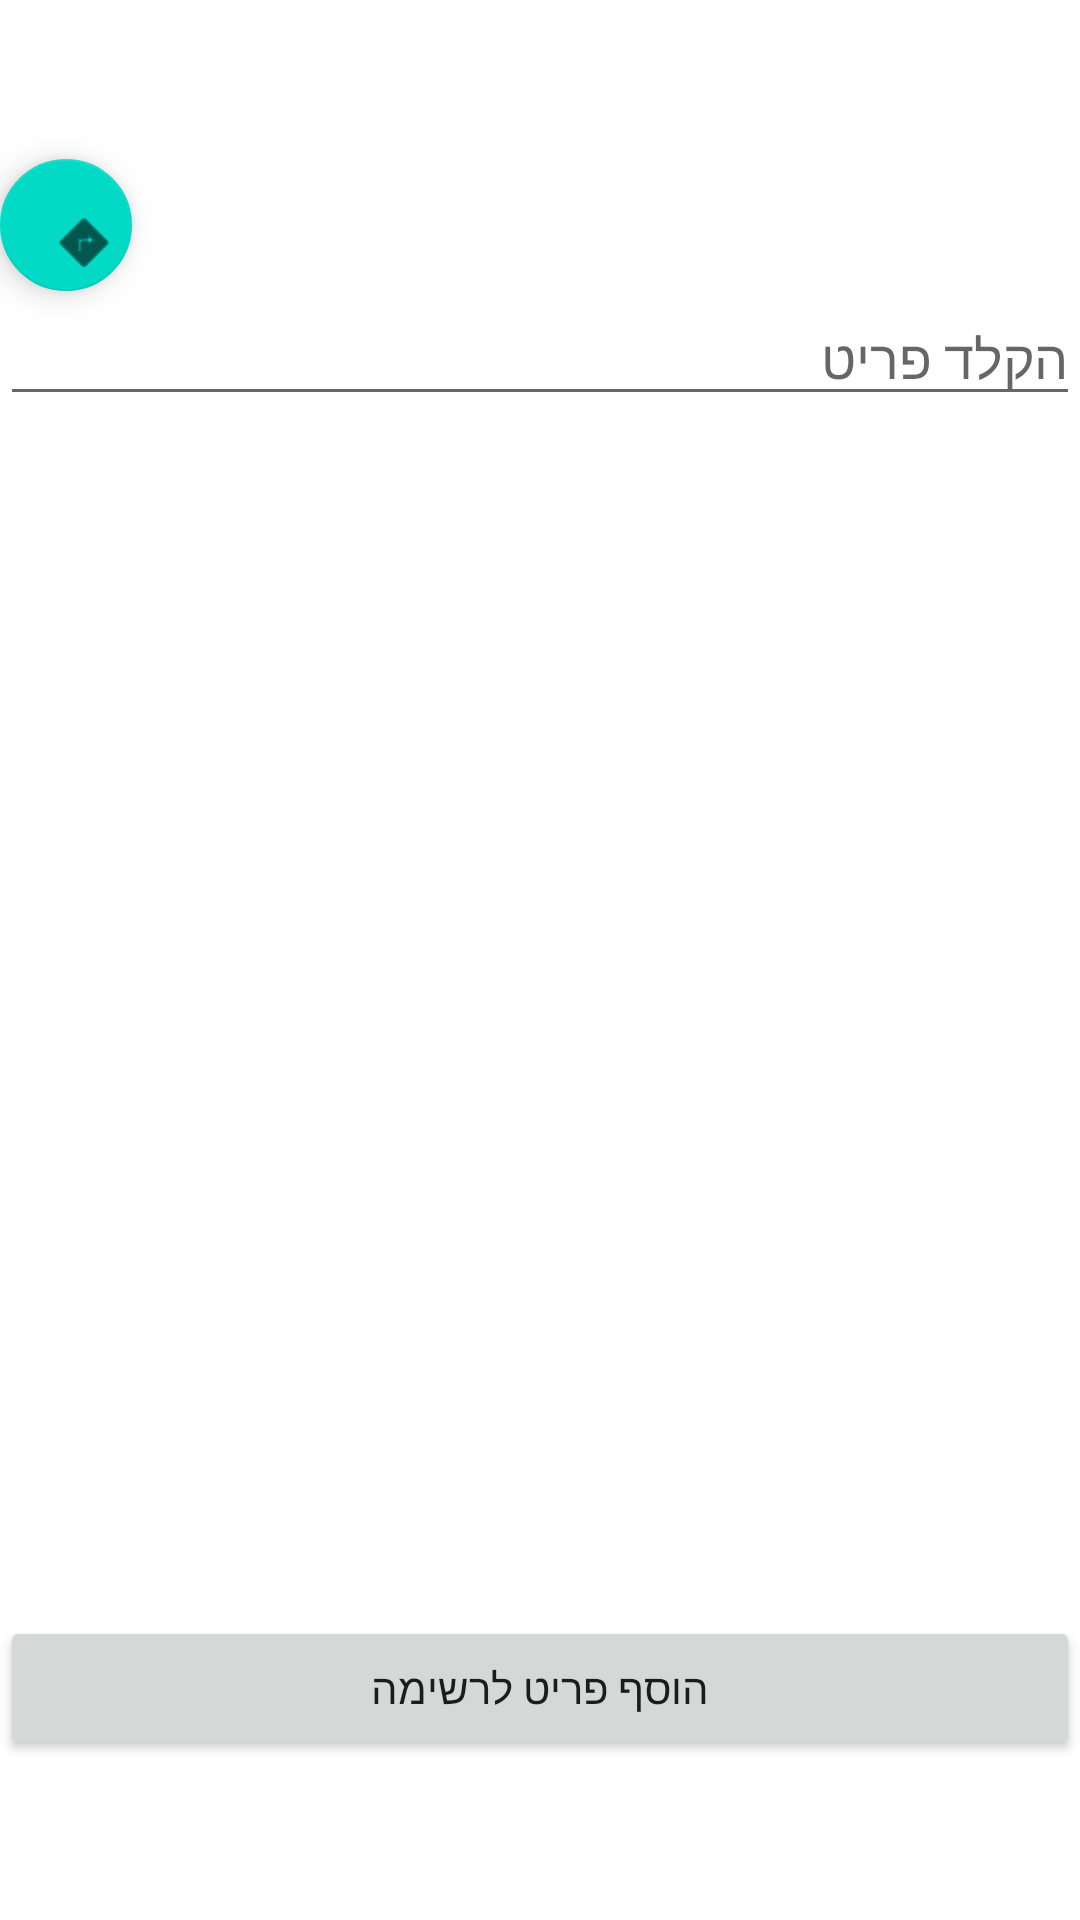

Icons on this 1080w x 1920h Android screen, each with the point to tap as point (x, y):
directions: point (66, 225)
